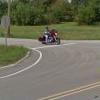Motorcycle: (33, 23, 66, 56)
